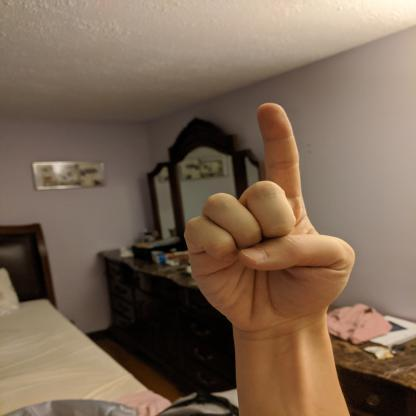D: (180, 100, 359, 331)
